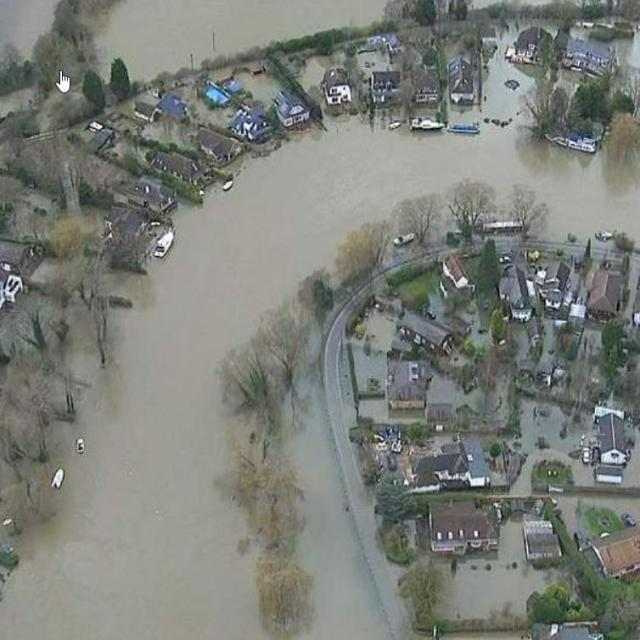flooded_areas: (0, 12, 630, 263), (327, 258, 627, 639)
